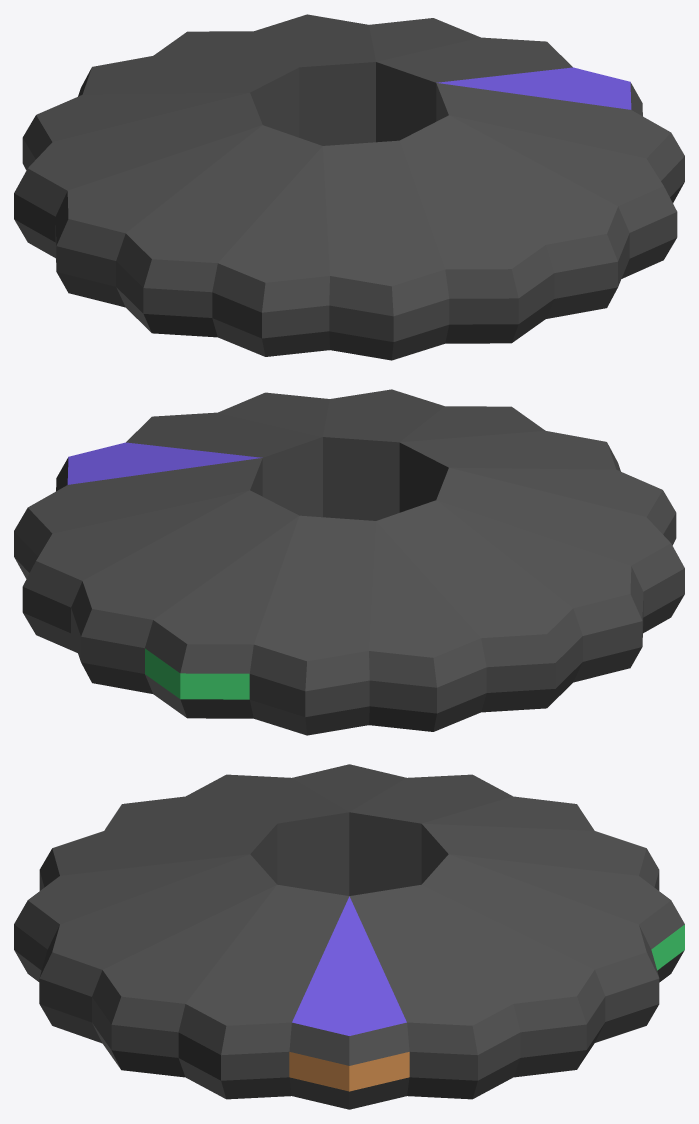
Rendered from Wheel12.glb.
3 views of the same model, one above another, from view 1: azimuth 30°, elevation 25°; view 2: azimuth 150°, elevation 25°; view 3: azimuth 270°, elevation 25° (orthographic).
Visible parts, largest first — view 1: Wheel1.001; view 2: Wheel1.001; view 3: Wheel1.001.
Part boxes in pixels (<box>): Wheel1.001: <box>14,14,684,360</box>; Wheel1.001: <box>14,389,684,735</box>; Wheel1.001: <box>14,764,684,1109</box>.
Size of the model in its own units: 2.07 by 0.5625 by 2.07.
